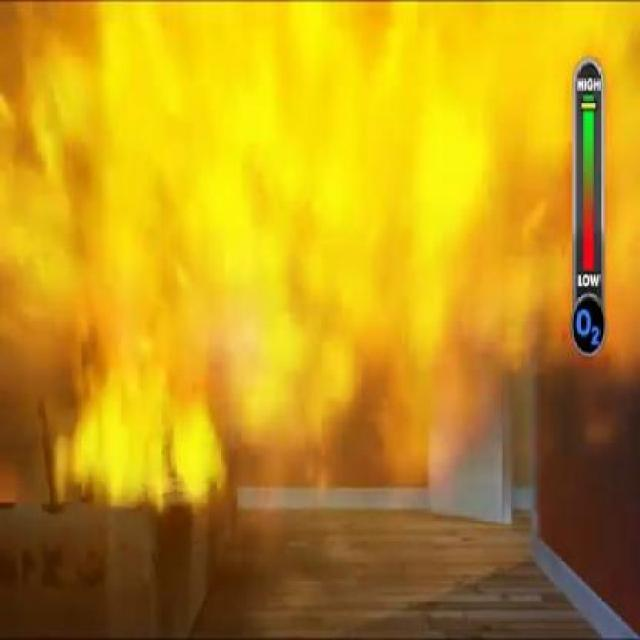fire: (39, 1, 552, 486)
